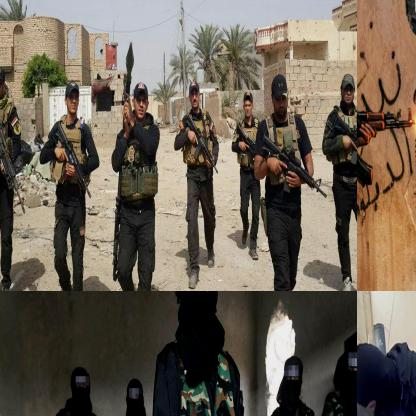rifle: (262, 128, 328, 202), (357, 105, 415, 186), (53, 119, 92, 203), (0, 94, 26, 217), (184, 106, 221, 180), (329, 108, 356, 176), (117, 33, 135, 103), (232, 121, 258, 160)
